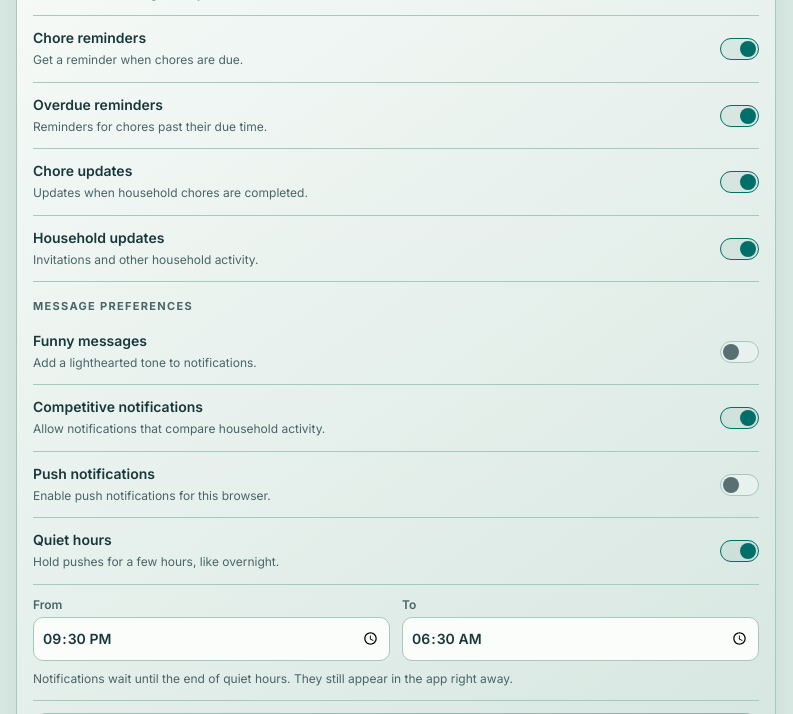
Test: notifications screen › preserves editable preference values when saving fails
(page scrolled)
Click the checkbox labelled "Funny messages" at x=740, y=352, box [720,340,759,362]
(page scrolled)
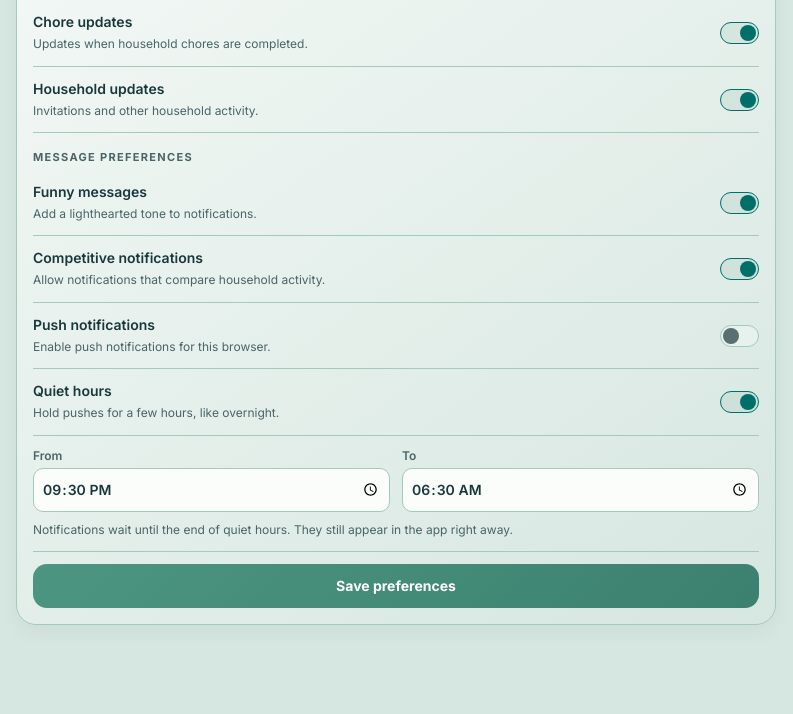
Click the button "Save preferences" at x=396, y=586, box [33,564,759,608]
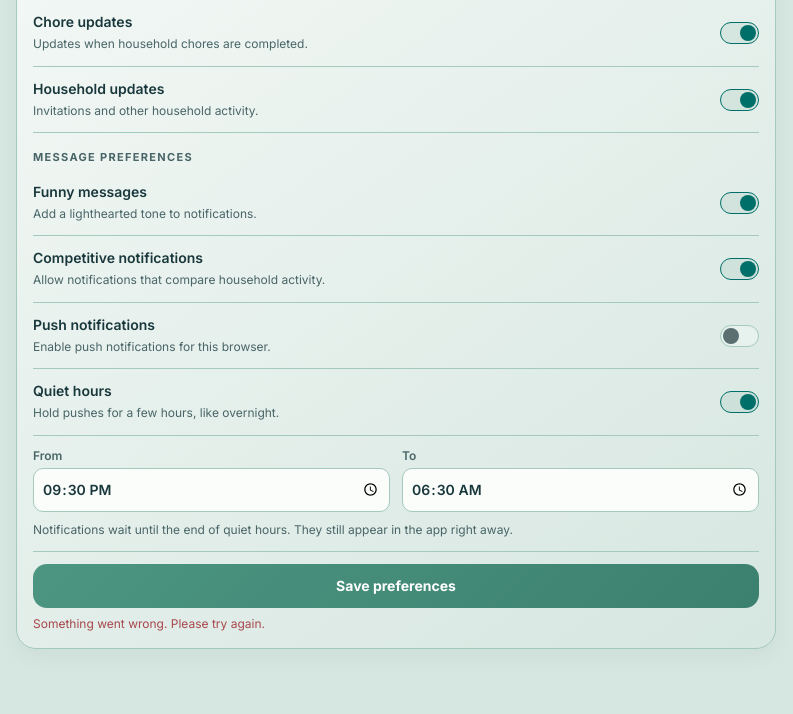
Check: the checkbox labelled "Funny messages" is checked, box [720,192,759,214]
Check: the message shows "Something went wrong.", box [33,616,265,631]
